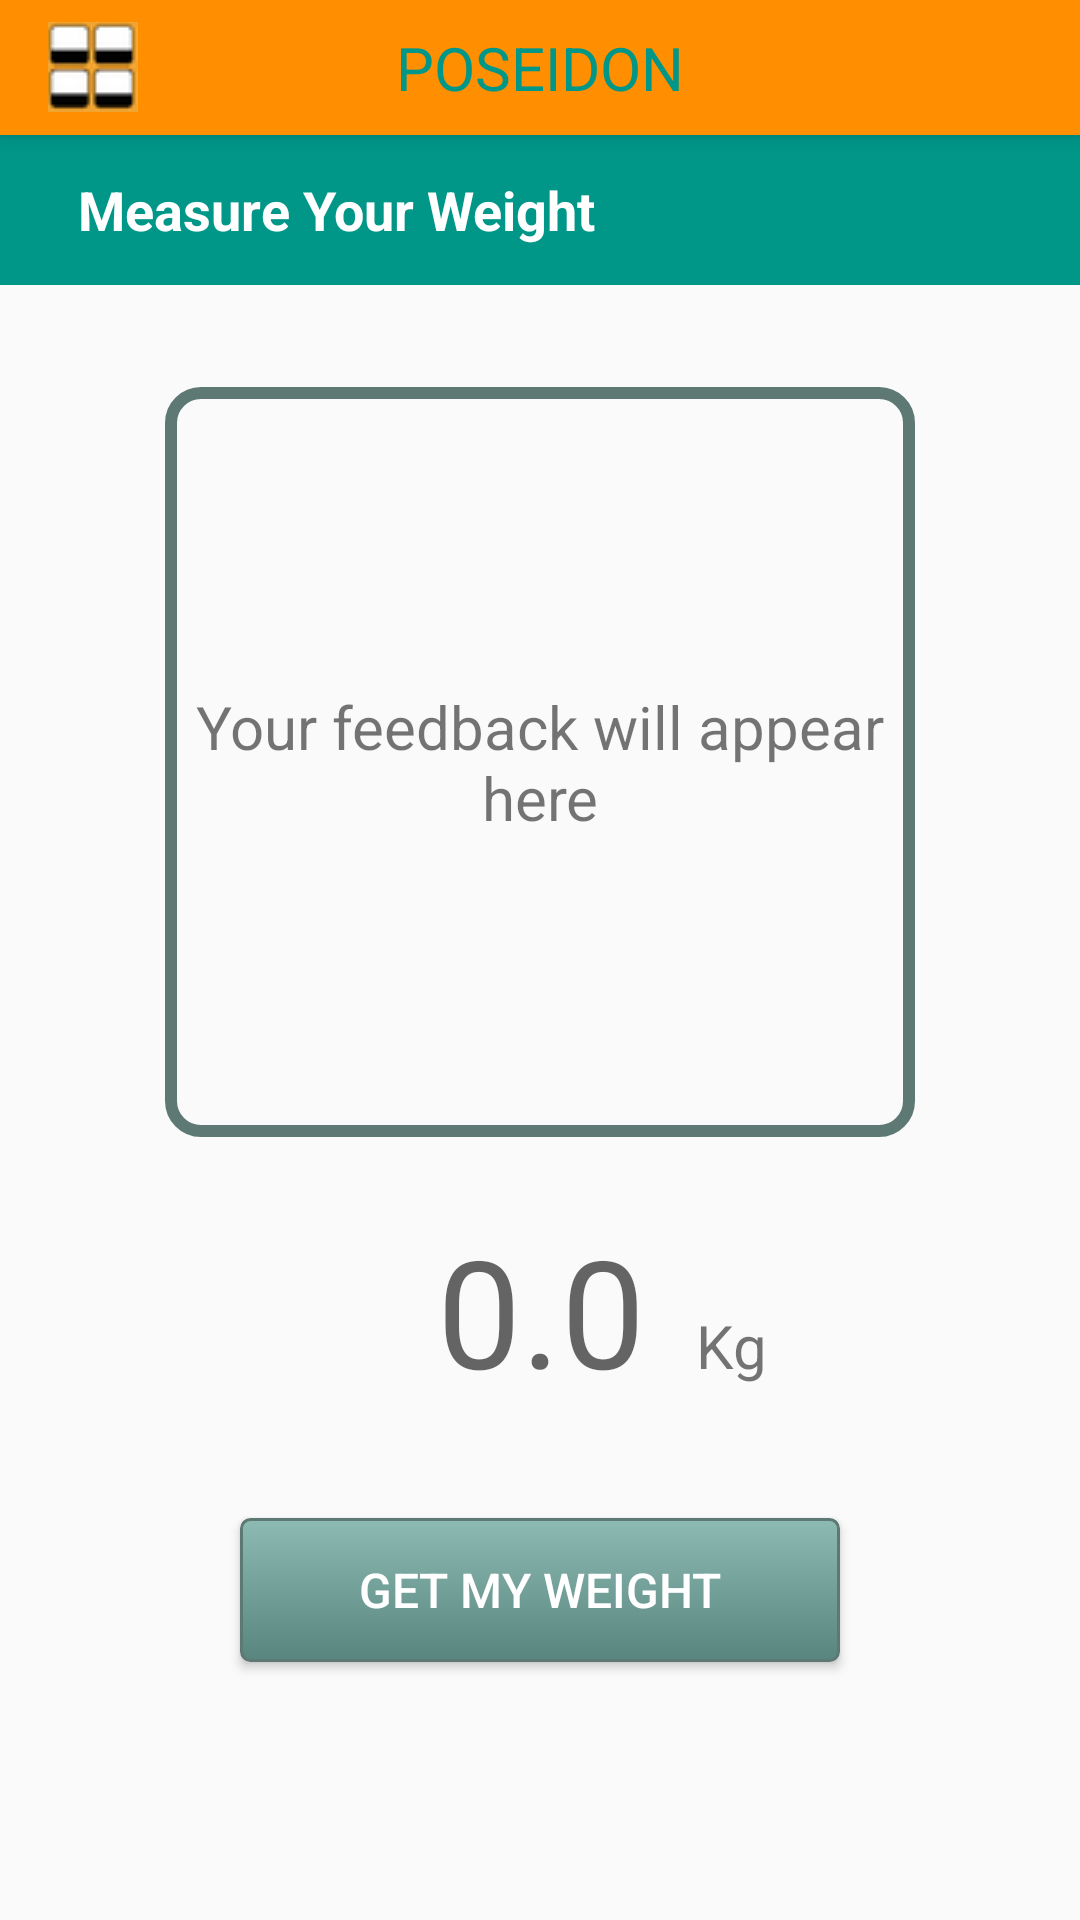

Icons on this 1080 x 1920 Android screen, each with the point to tap as (x=x, y=y):
homebutton: (x=93, y=67)
